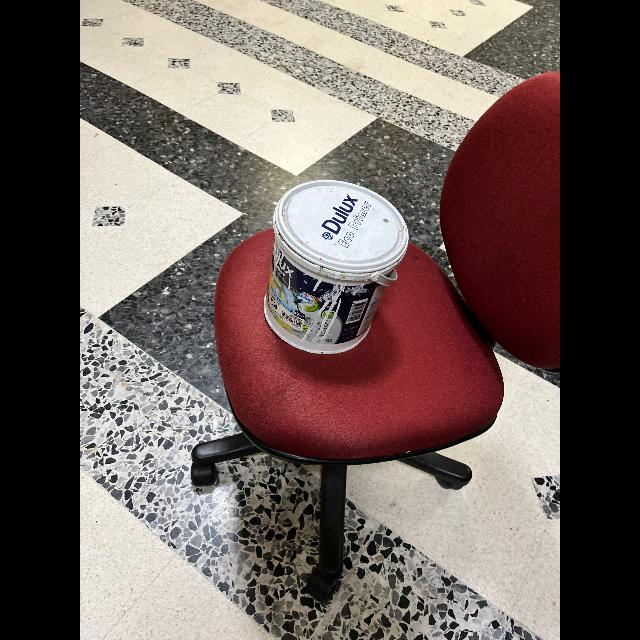paint_bucket: (257, 178, 415, 368)
